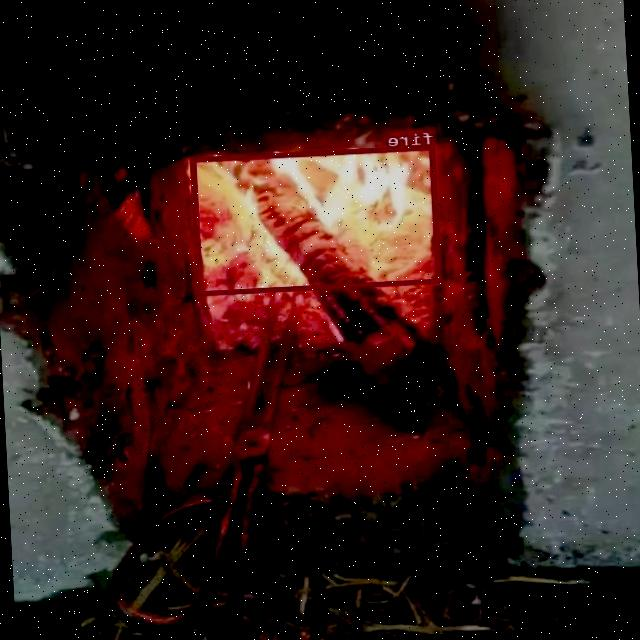fire: (190, 144, 442, 295)
